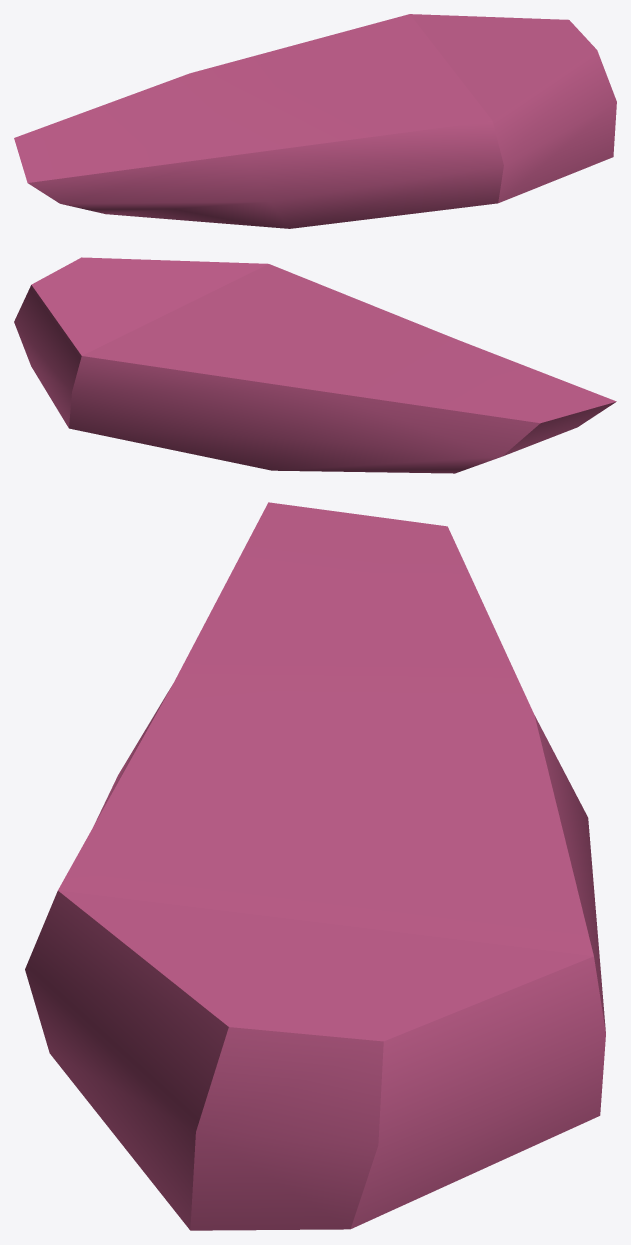
The model's file is Rock_01_Lod1.fbx.
3 renders of one model, top to bottom at view 1: azimuth 30°, elevation 25°; view 2: azimuth 150°, elevation 25°; view 3: azimuth 270°, elevation 25°, orthographic. The views are drawn at different scales.
Parts seen in each view (by area): view 1: Rock_01_Lod1; view 2: Rock_01_Lod1; view 3: Rock_01_Lod1.
Boxes of the visible parts, x1=… form: Rock_01_Lod1: x1=14, y1=14, x2=616, y2=228; Rock_01_Lod1: x1=14, y1=257, x2=616, y2=473; Rock_01_Lod1: x1=25, y1=502, x2=605, y2=1230.
Size of the model in its own units: 515 by 84.49 by 225.
